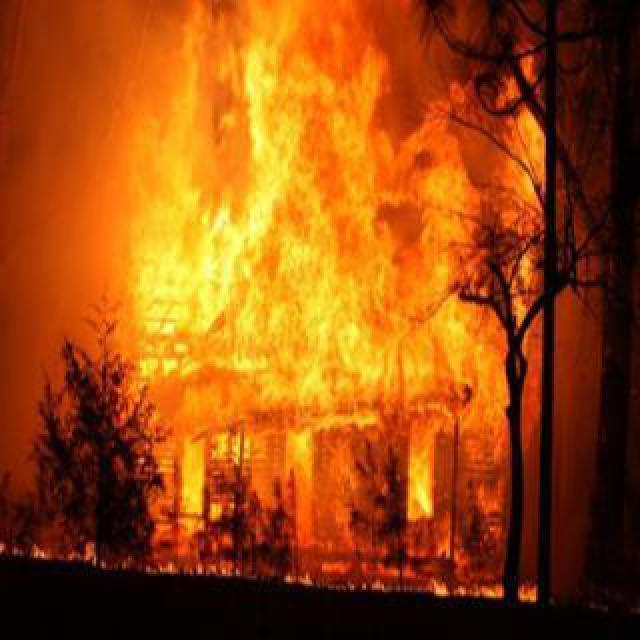Fire: (106, 2, 550, 552)
